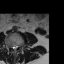CCS_normal: (14, 44, 15, 52)
LFS_stenosis: (18, 43, 20, 48)
LLS_normal: (15, 44, 17, 50)
RFS_stenosis: (10, 44, 12, 49)
RLS_normal: (12, 44, 14, 50)
